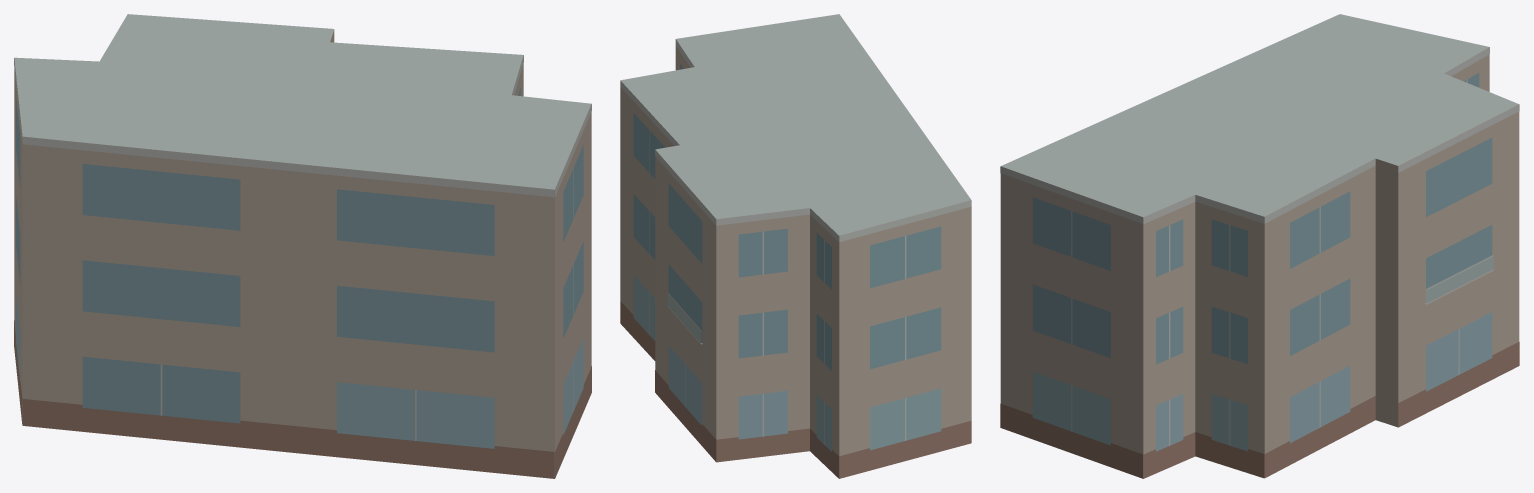
Rendered from survey-upis-32893610.glb.
The picture shows the model from 3 angles, left to right: view 1: azimuth 30°, elevation 25°; view 2: azimuth 150°, elevation 25°; view 3: azimuth 270°, elevation 25°; orthographic projection. The views are drawn at different scales.
Visible parts, largest first — view 1: survey-upis-32893610.tmp; view 2: survey-upis-32893610.tmp; view 3: survey-upis-32893610.tmp.
Boxes of the visible parts, x1,y1,x2,y2 form: survey-upis-32893610.tmp: (14,14,591,478); survey-upis-32893610.tmp: (620,14,971,478); survey-upis-32893610.tmp: (1000,14,1519,478).
Size of the model in its own units: 15.26 by 9.15 by 16.46.
